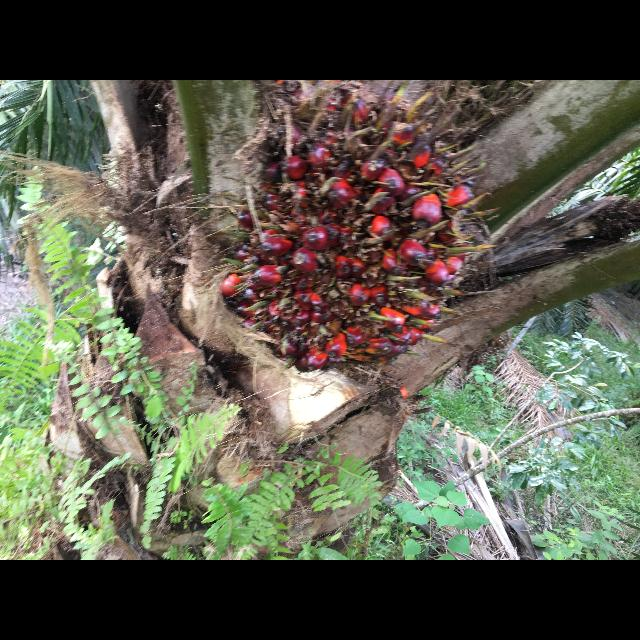Ripe: (217, 90, 485, 373)
